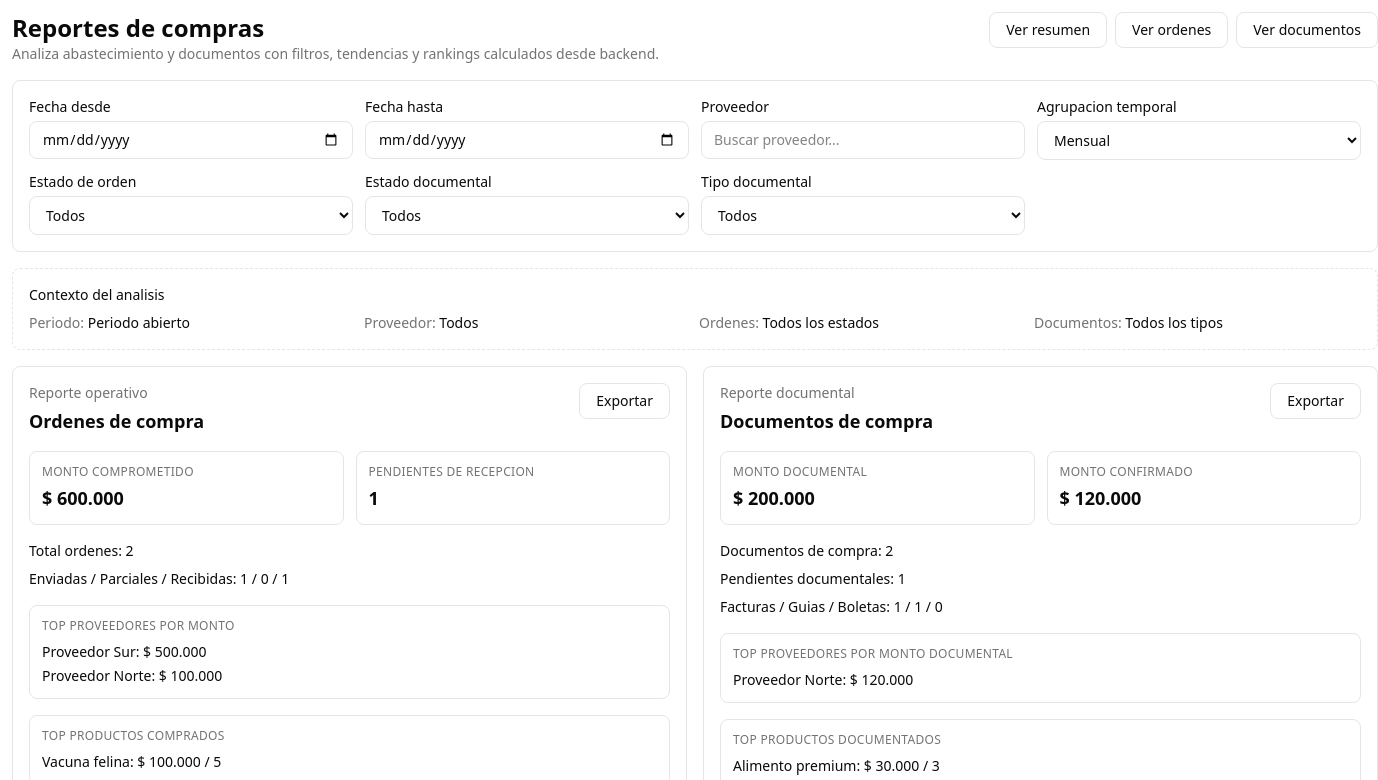
Test: compras/ListPage › muestra reportes exportables de compras
Expected: the text "Reporte operativo" is shown, [29, 383, 148, 402]
Expected: the dropdown labelled "Proveedor" is shown, [701, 121, 1025, 159]
Select "Recibida" in the dropdown labelled "Estado de orden" at point(191, 216), box [29, 196, 353, 235]
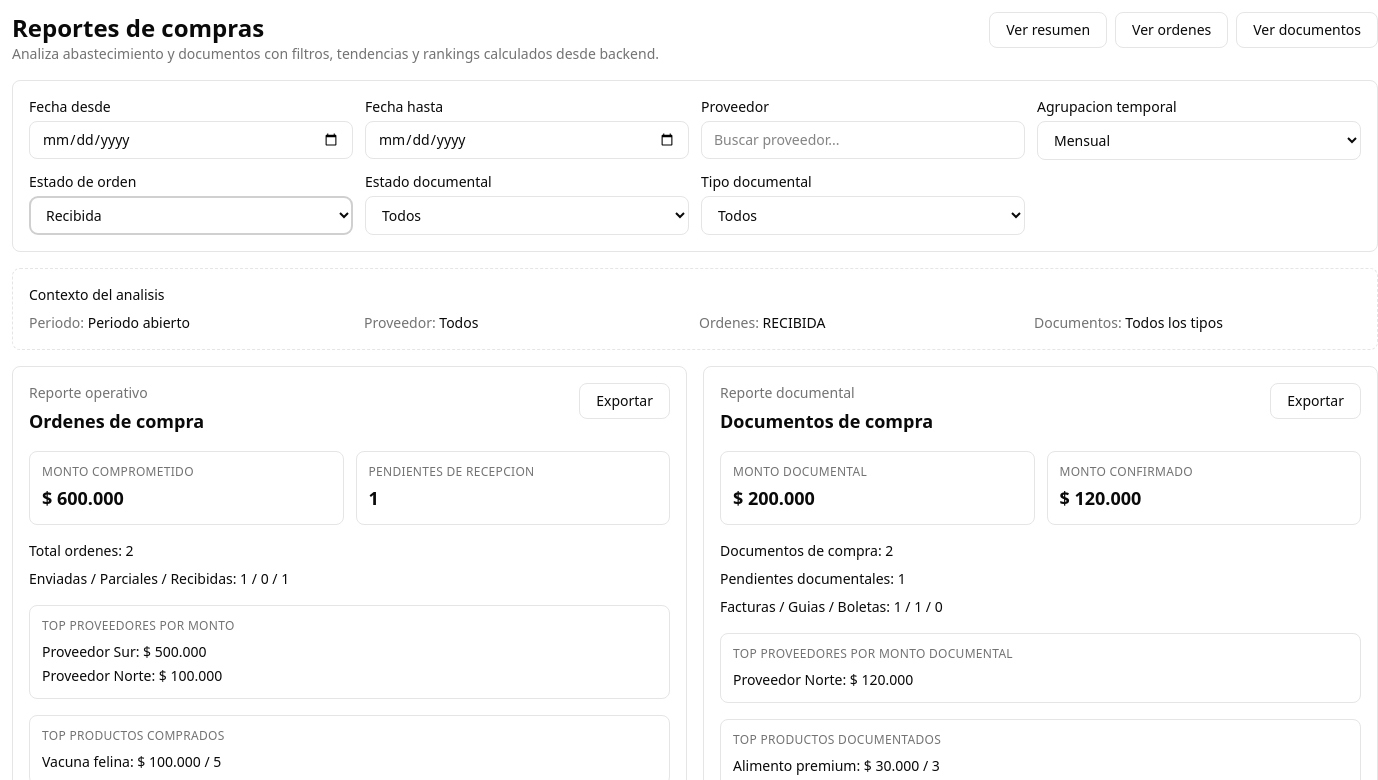
Select "Semanal" in the dropdown labelled "Agrupacion temporal" at point(1199, 140), box [1037, 121, 1361, 160]
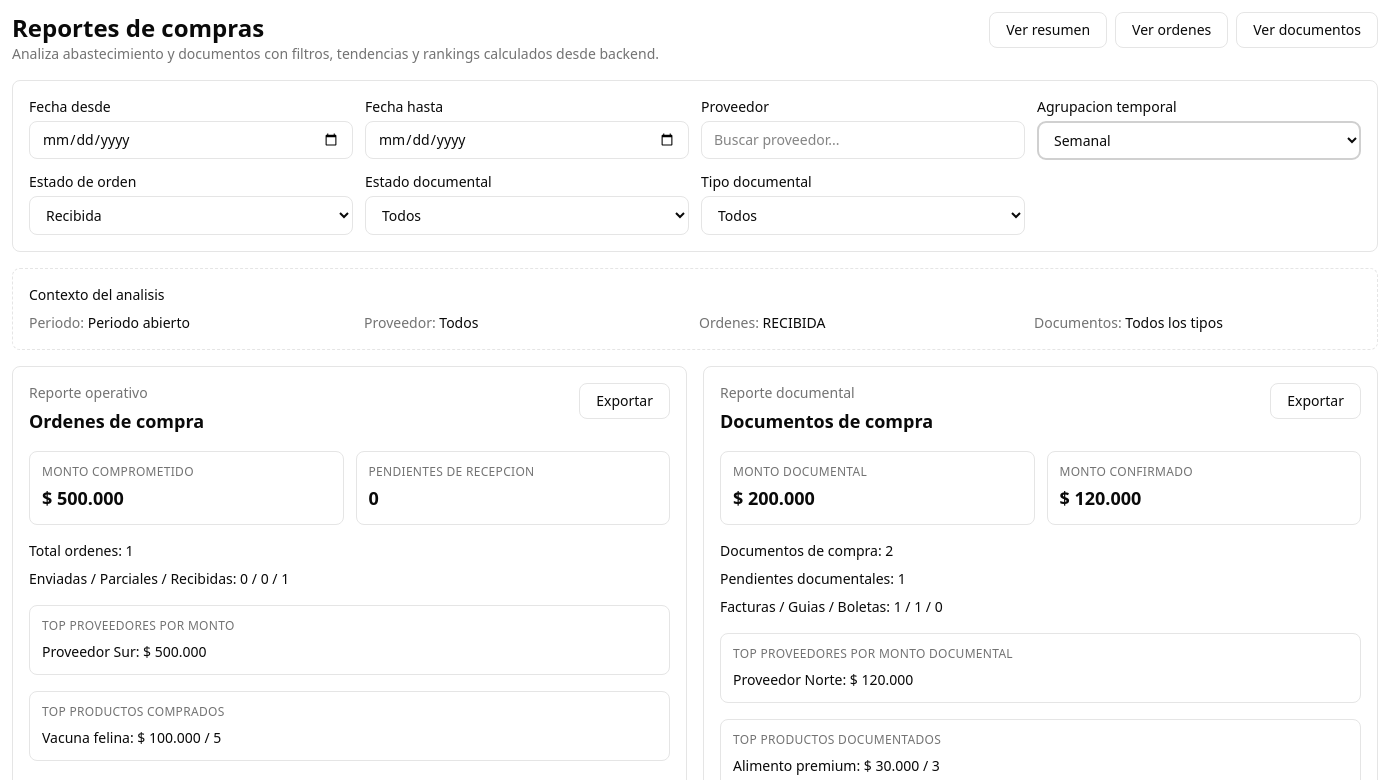
Expected: the text "Proveedor Sur: $ 500.000" is shown, [42, 642, 207, 661]
Result: the text "$ 500.000" below "Monto comprometido" is shown at [42, 486, 124, 510]
